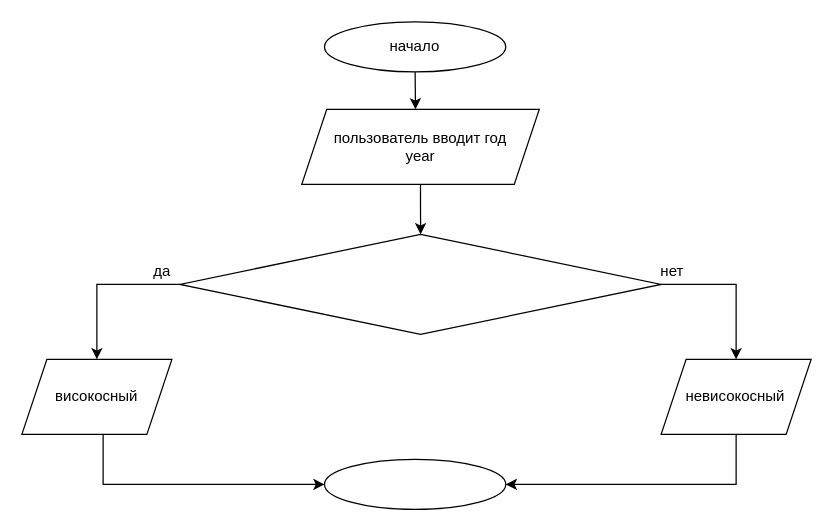
Some shapes in this 834 by 531 pixel diagram are drawn without their labels. The shapes that lost their labels are listed below. From the top down, each one's centre as x and y in pixels, then its label:
At (x=420, y=283): "year % 4 == 0 and year % 100 != 0 or year % 400 == 0".
At (x=414, y=483): "конец".
